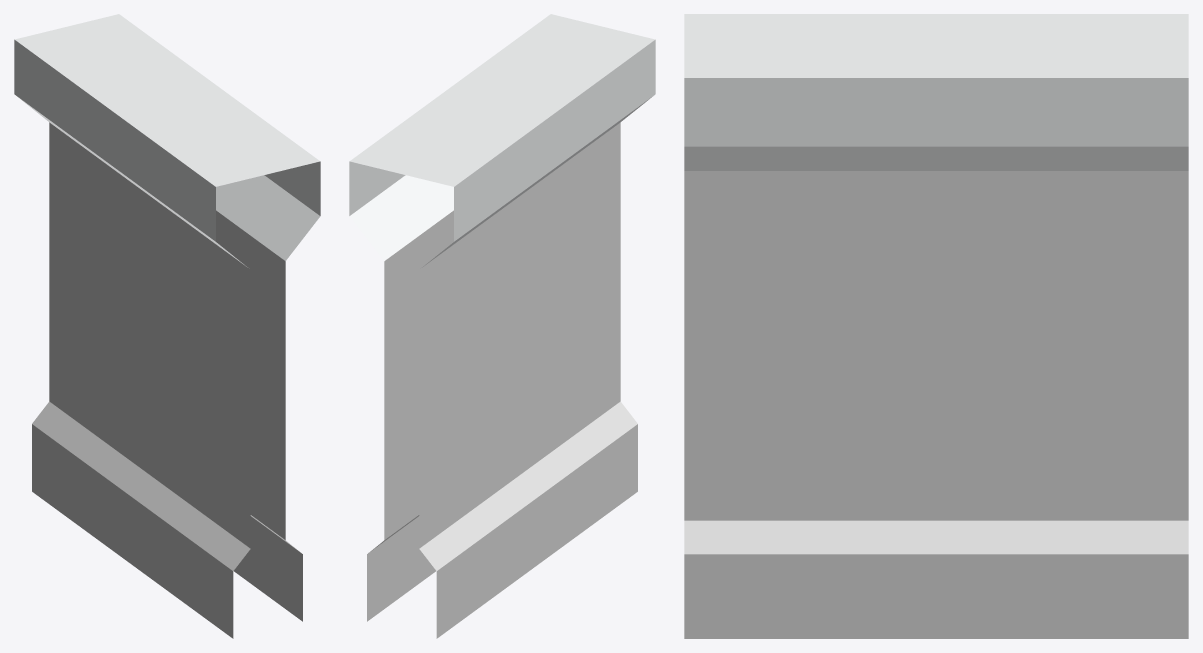
The model's file is wall_l.fbx.
The picture shows the model from 3 angles, left to right: view 1: azimuth 30°, elevation 25°; view 2: azimuth 150°, elevation 25°; view 3: azimuth 270°, elevation 25°; orthographic projection. The views are drawn at different scales.
Parts seen in each view (by area): view 1: wall_l; view 2: wall_l; view 3: wall_l.
Part boxes in pixels (box(x1,y1,x2,y2)): wall_l: box(14, 14, 320, 638); wall_l: box(349, 14, 655, 638); wall_l: box(684, 14, 1188, 638).
Bounding box in the file's own units: 0.6 × 2.5 × 2.
